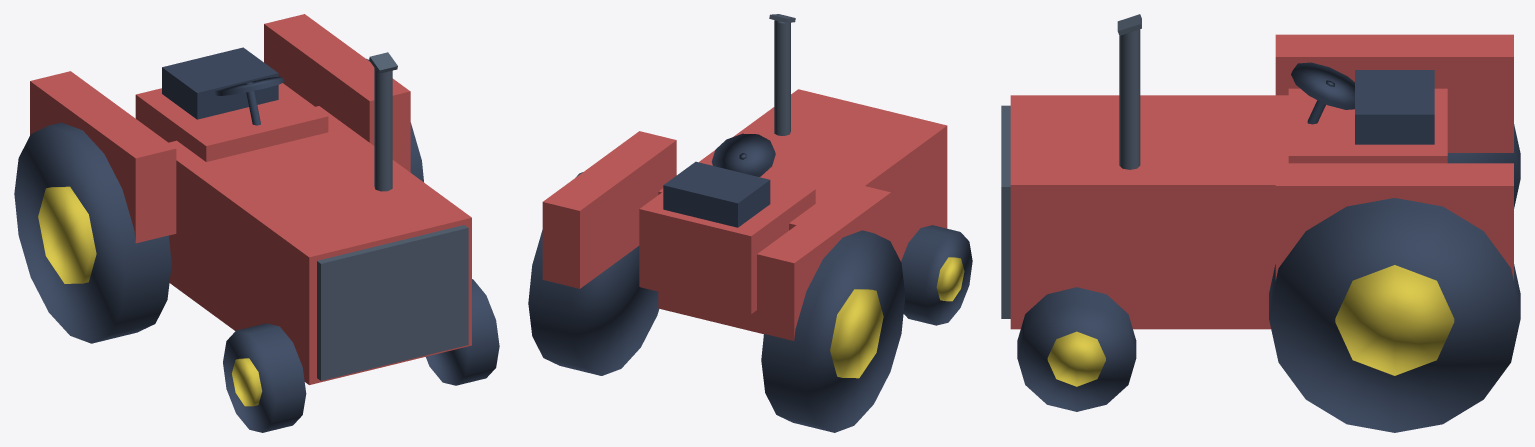
File: tractor.glb
3 views of the same model, side by side, from view 1: azimuth 30°, elevation 25°; view 2: azimuth 150°, elevation 25°; view 3: azimuth 270°, elevation 25° (orthographic). The views are drawn at different scales.
Visible parts, largest first — view 1: Root; view 2: Root; view 3: Root.
Part boxes in pixels (x1,y1,x2,y2): Root: (14, 14, 499, 432); Root: (528, 14, 972, 432); Root: (1001, 14, 1520, 432).
Size of the model in its own units: 3.06 by 2.97 by 3.92.
